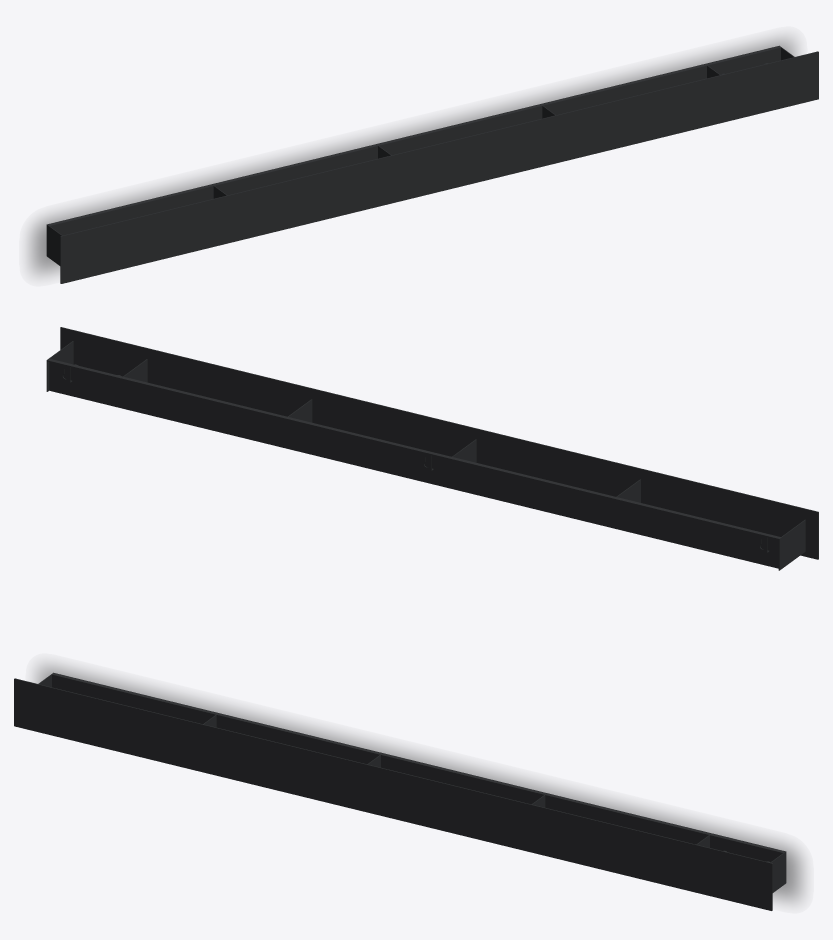
Rendered from skyline-patron.92740e528e.ar.glb.
The picture shows the model from 3 angles, top to bottom: view 1: azimuth 30°, elevation 25°; view 2: azimuth 150°, elevation 25°; view 3: azimuth 330°, elevation 25°; orthographic projection.
Parts seen in each view (by area): view 1: NAUO1, object 2; view 2: NAUO1; view 3: NAUO1, object 2.
Part boxes in pixels (left/top/right/bottom): NAUO1: left=46, top=45, right=818, bottom=283; object 2: left=29, top=38, right=797, bottom=274; NAUO1: left=46, top=327, right=818, bottom=570; NAUO1: left=14, top=672, right=786, bottom=910; object 2: left=35, top=665, right=803, bottom=901.
Size of the model in its own units: 1.58 by 0.17 by 0.092.
Materials: 2 (1 with a texture image).
